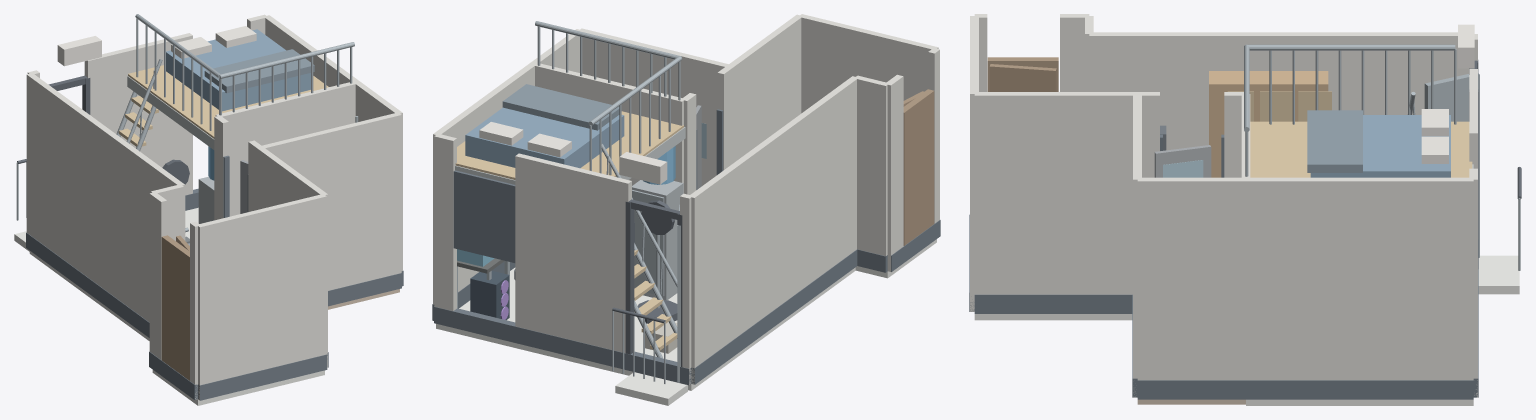
File: 7150_PHONG_TRO_LAYOUT_v4.glb
3 renders of one model, left to right at view 1: azimuth 30°, elevation 25°; view 2: azimuth 150°, elevation 25°; view 3: azimuth 270°, elevation 25°, orthographic. The views are drawn at different scales.
Visible parts, largest first — view 1: 142_shell_high, 144_shell_high, 179_shell_high, 148_shell_high, 140_shell_high, 078_sleep, 150_doors, 139_shell_high, 054_loft, 145_shell_high, 131_outline, 081_sleep (+22 smaller); view 2: 142_shell_high, 148_shell_high, 144_shell_high, 139_shell_high, 179_shell_high, 143_shell_high, 166_doors, 078_sleep, 135_outline, 150_doors, 140_shell_high, 149_shell_high (+31 smaller); view 3: 141_shell_high, 139_shell_high, 178_shell_high, 142_shell_high, 134_outline, 078_sleep, 054_loft, 017_storage, 081_sleep, 132_outline, 174_outline, 145_shell_high (+24 smaller).
Part boxes in pixels (bbox=[...]): 142_shell_high: bbox=[26, 73, 185, 322]; 144_shell_high: bbox=[196, 194, 326, 400]; 179_shell_high: bbox=[260, 113, 401, 290]; 148_shell_high: bbox=[84, 33, 192, 195]; 140_shell_high: bbox=[215, 81, 358, 216]; 078_sleep: bbox=[166, 29, 310, 111]; 150_doors: bbox=[161, 235, 189, 380]; 139_shell_high: bbox=[253, 143, 327, 367]; 054_loft: bbox=[128, 65, 328, 138]; 145_shell_high: bbox=[149, 192, 167, 359]; 131_outline: bbox=[198, 354, 327, 400]; 081_sleep: bbox=[204, 49, 314, 93]; 142_shell_high: bbox=[688, 76, 856, 384]; 148_shell_high: bbox=[515, 153, 631, 353]; 144_shell_high: bbox=[799, 14, 938, 113]; 139_shell_high: bbox=[722, 14, 802, 166]; 179_shell_high: bbox=[578, 28, 731, 185]; 143_shell_high: bbox=[854, 75, 887, 256]; 166_doors: bbox=[453, 170, 515, 262]; 078_sleep: bbox=[465, 107, 624, 168]; 135_outline: bbox=[434, 306, 691, 385]; 150_doors: bbox=[903, 89, 934, 245]; 140_shell_high: bbox=[532, 62, 685, 193]; 149_shell_high: bbox=[434, 134, 456, 310]; 141_shell_high: bbox=[1246, 177, 1473, 380]; 139_shell_high: bbox=[974, 92, 1148, 294]; 178_shell_high: bbox=[1137, 177, 1245, 380]; 142_shell_high: bbox=[1089, 32, 1468, 150]; 134_outline: bbox=[1246, 380, 1473, 399]; 078_sleep: bbox=[1310, 115, 1450, 177]; 054_loft: bbox=[1250, 121, 1472, 177]; 017_storage: bbox=[1209, 71, 1328, 177]; 081_sleep: bbox=[1307, 110, 1362, 172]; 132_outline: bbox=[974, 294, 1132, 313]; 174_outline: bbox=[1137, 380, 1245, 399]; 145_shell_high: bbox=[1060, 14, 1089, 91].
Size of the model in its own units: 4.33 by 3.35 by 6.01.
